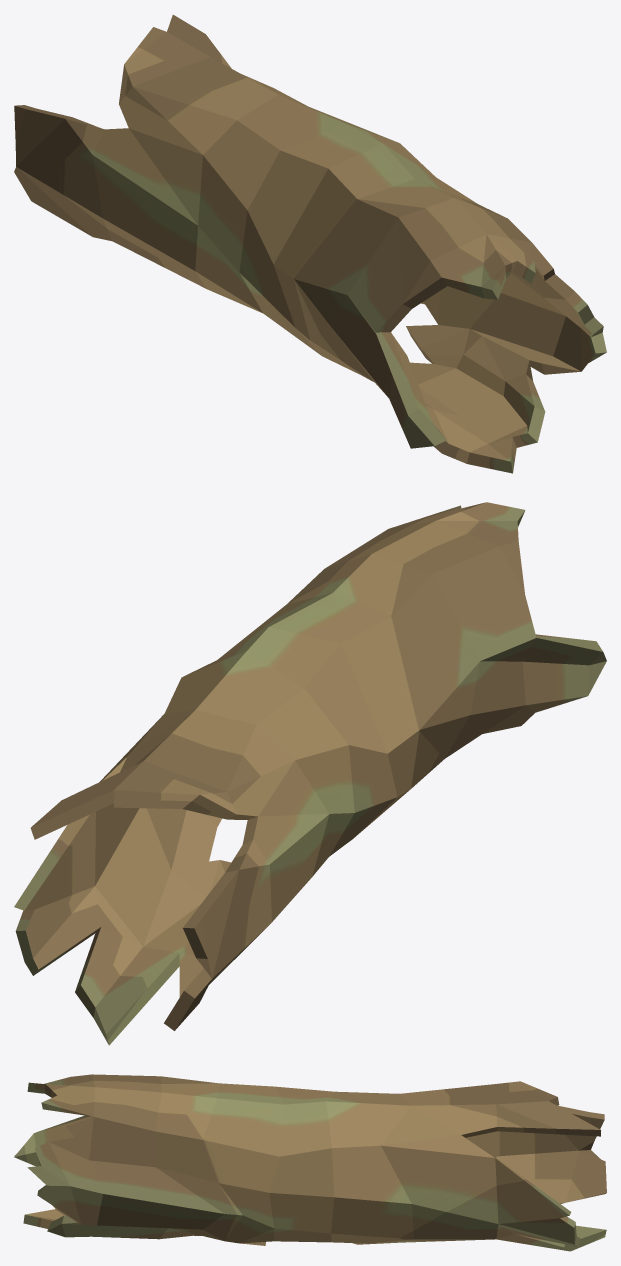
Rendered from swamp_SM_Prop_Swamp_Log_02.gltf.
3 views of the same model, one above another, from view 1: azimuth 30°, elevation 25°; view 2: azimuth 150°, elevation 25°; view 3: azimuth 270°, elevation 25° (orthographic). The views are drawn at different scales.
Parts seen in each view (by area): view 1: SM_Prop_Swamp_Log_02; view 2: SM_Prop_Swamp_Log_02; view 3: SM_Prop_Swamp_Log_02.
Part boxes in pixels (x1,y1,x2,y2): SM_Prop_Swamp_Log_02: (14, 14, 606, 473); SM_Prop_Swamp_Log_02: (14, 502, 606, 1045); SM_Prop_Swamp_Log_02: (14, 1074, 606, 1251).
Bounding box in the file's own units: 2.22 × 2.13 × 6.89.
Materials: 1 (1 with a texture image).
